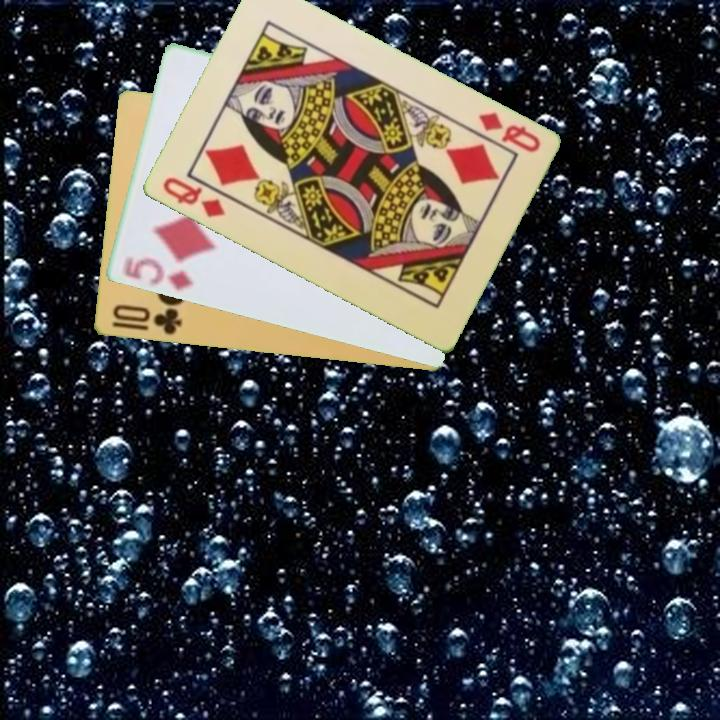10c: (109, 301, 184, 338)
5d: (118, 253, 195, 294)
Qd: (158, 173, 228, 221), (473, 109, 543, 156)
